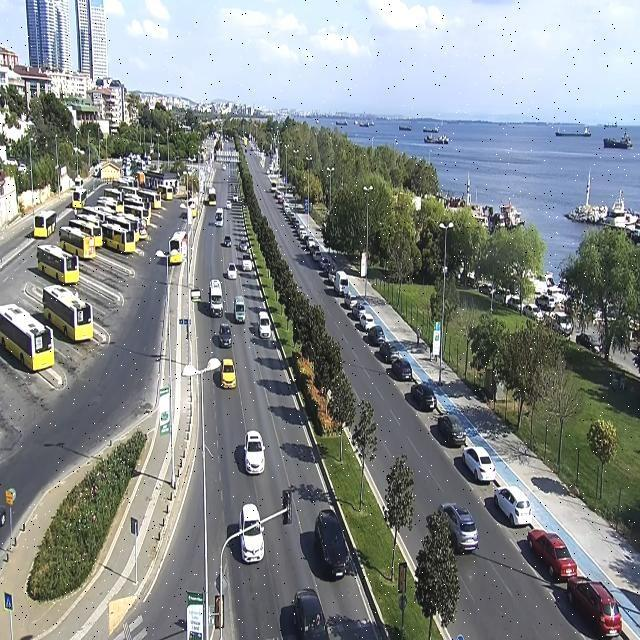Bus: (0, 304, 55, 374), (42, 283, 94, 345), (36, 243, 80, 284), (59, 226, 97, 261), (100, 223, 137, 254), (104, 212, 140, 243), (68, 219, 103, 247), (168, 230, 190, 266), (33, 210, 57, 240), (125, 203, 151, 225), (137, 188, 163, 210), (82, 207, 113, 219), (72, 187, 88, 210), (76, 214, 103, 226), (158, 184, 175, 200), (95, 199, 117, 210), (215, 207, 224, 227), (208, 188, 217, 205)
Car: (566, 576, 623, 640), (527, 528, 577, 581), (314, 509, 351, 579), (438, 502, 480, 555), (292, 589, 329, 640), (494, 484, 533, 528), (239, 504, 265, 564), (462, 445, 497, 484), (243, 430, 266, 475), (437, 414, 467, 448), (409, 382, 436, 412), (378, 341, 400, 364), (391, 357, 412, 381), (220, 358, 236, 389), (366, 325, 386, 346), (258, 310, 272, 338), (522, 304, 544, 321), (219, 322, 232, 348), (535, 294, 556, 310), (359, 312, 375, 329), (352, 303, 368, 319), (508, 296, 523, 311), (240, 254, 254, 270), (344, 294, 358, 309), (227, 263, 238, 280), (306, 235, 316, 248), (239, 238, 248, 252), (223, 236, 233, 248), (312, 251, 323, 260), (225, 200, 233, 210), (232, 194, 239, 203)
Van: (208, 279, 225, 318), (334, 270, 348, 296), (234, 296, 246, 324)
